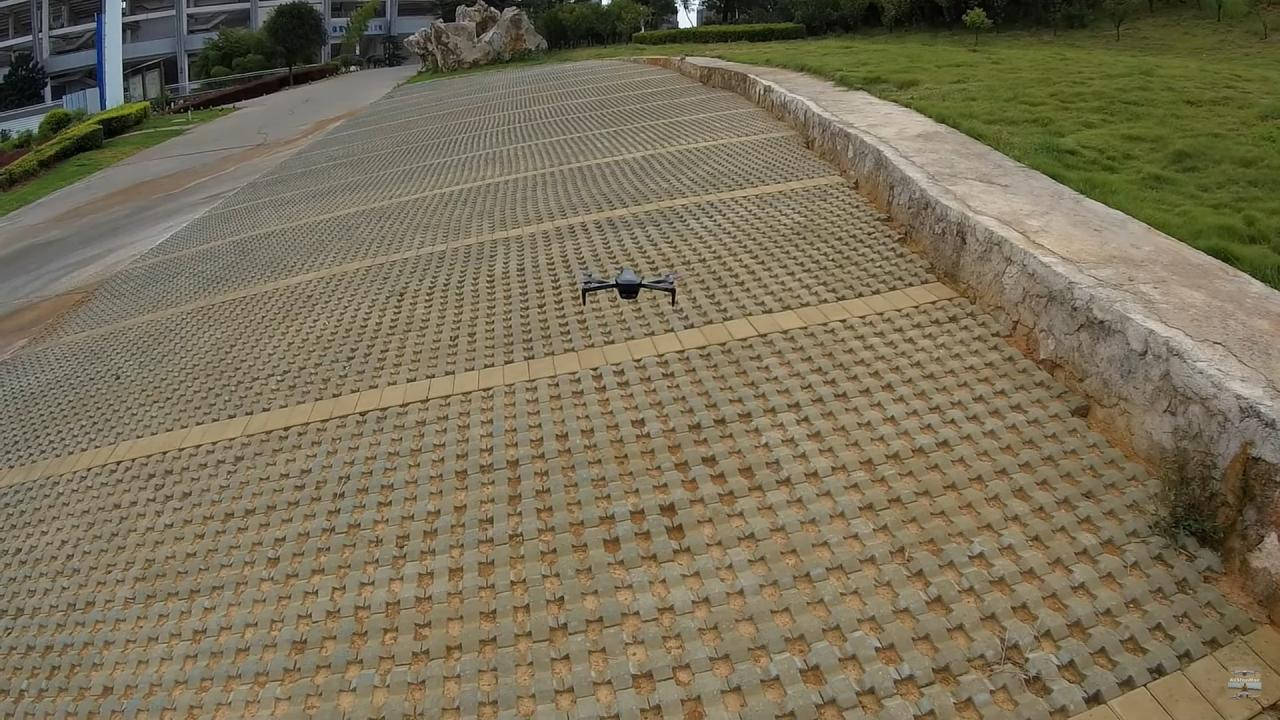Drone: (566, 261, 692, 314)
